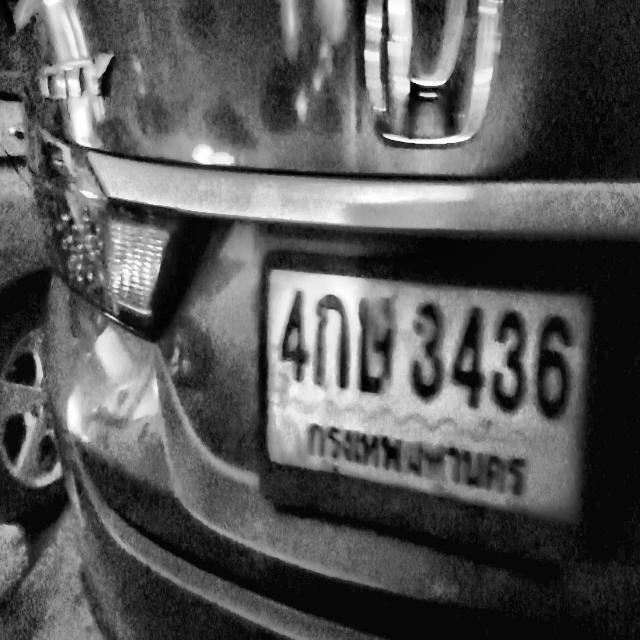license-plate: (274, 277, 588, 522)
